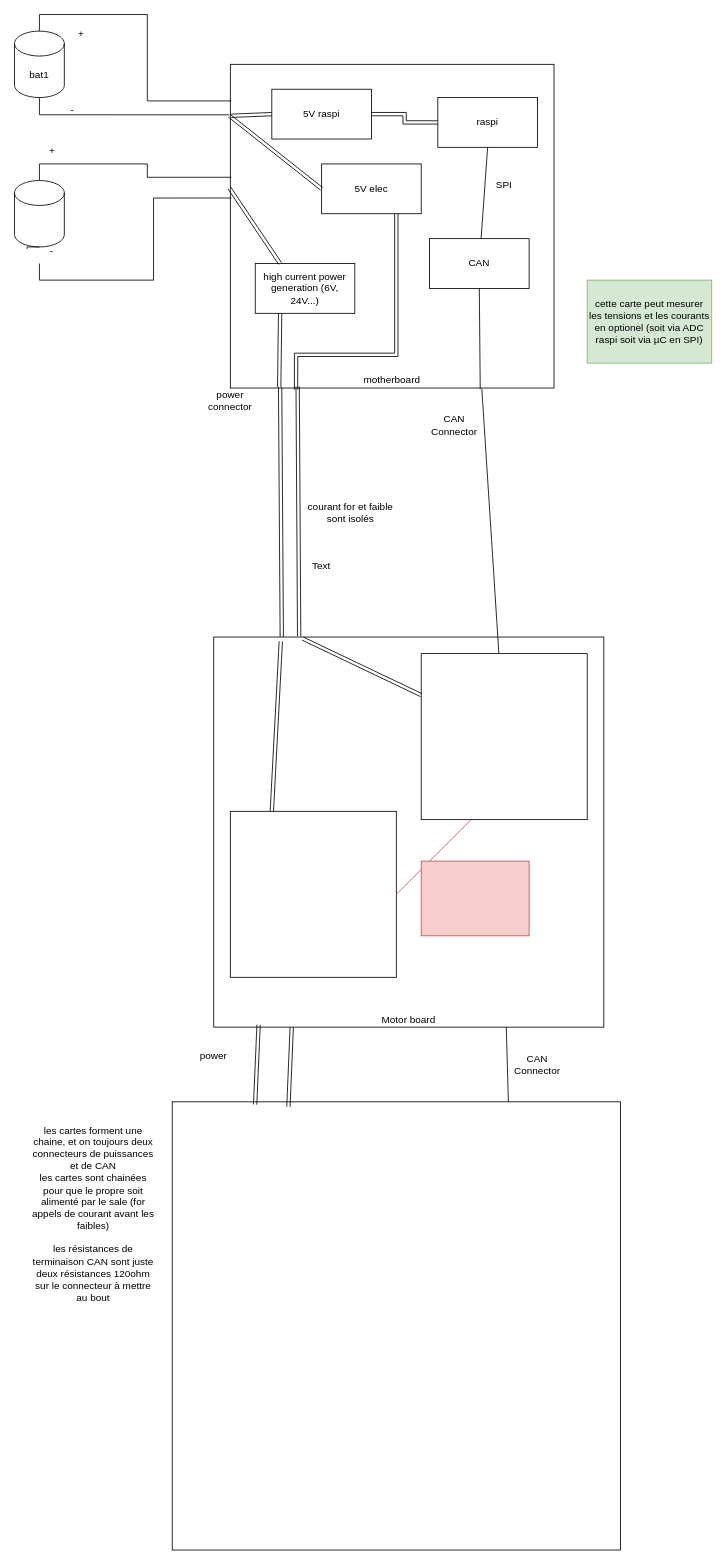
Image size: 726x1565. Some labels were removed from this diagram. The centre of each missing label's shape, as x and y in pixels:
"bat2" belongs at [39,213].
"carte X..." belongs at [395,1325].
"Control (µcourants)" belongs at [503,736].
"Power (H-bridge courant forts)" belongs at [312,893].
"si pas d'isolation totale les masses sont connectées ici" belongs at [474,898].
